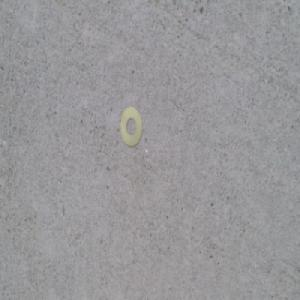Washer: (121, 106, 144, 148)
